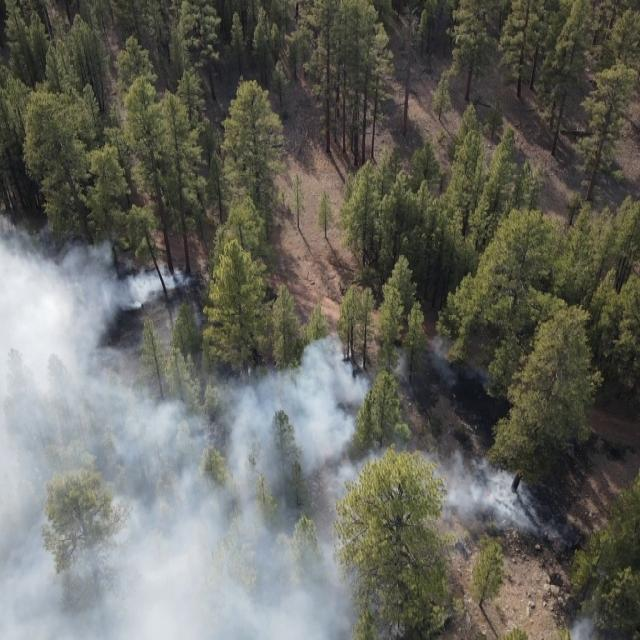fire: (484, 490, 496, 506)
smoke: (115, 371, 370, 640), (0, 244, 115, 640), (370, 447, 550, 531), (390, 336, 484, 392), (116, 263, 200, 315), (296, 333, 354, 371), (0, 214, 60, 241), (568, 611, 604, 640)
